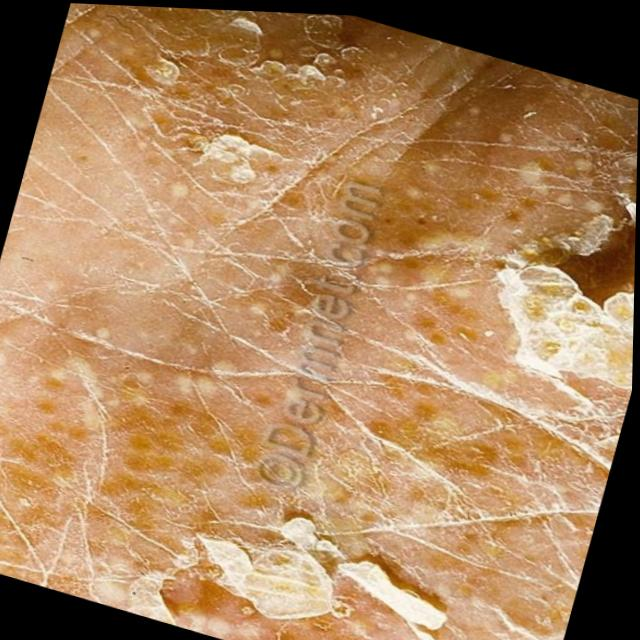Eczema: (32, 2, 640, 640)
